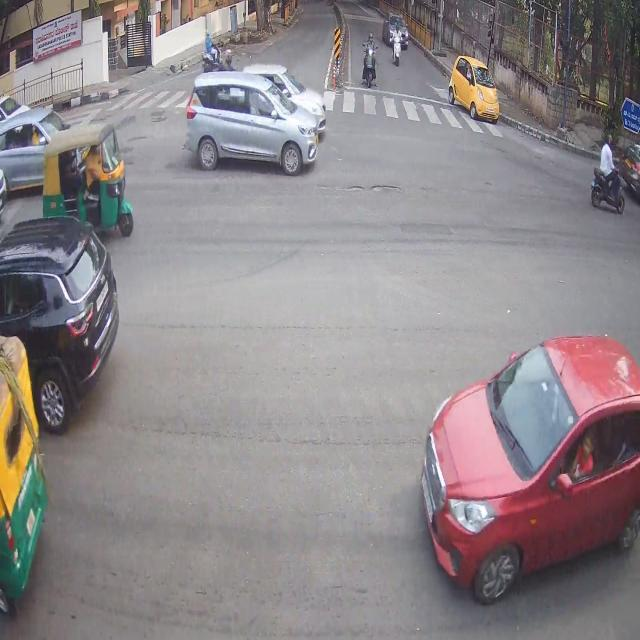Car: (424, 350, 640, 591), (0, 219, 109, 425), (192, 79, 312, 185), (252, 62, 328, 128), (445, 58, 507, 126), (2, 122, 52, 184), (386, 0, 410, 41)
Three-wheeler: (0, 337, 57, 582), (47, 138, 129, 225)
Two-wheelers: (590, 135, 622, 209), (362, 37, 382, 93), (207, 30, 230, 68)
